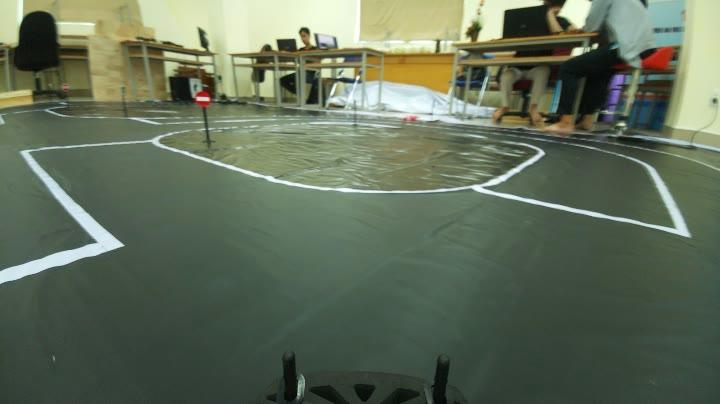no_entry: (188, 86, 218, 111)
